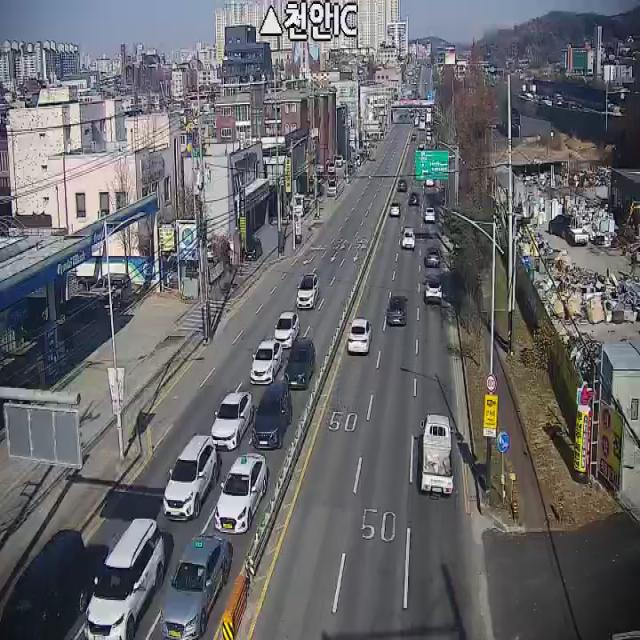Car: (84, 518, 165, 640), (0, 529, 86, 640), (161, 537, 230, 640), (164, 435, 217, 519), (215, 453, 266, 534), (252, 383, 293, 450), (212, 392, 254, 451), (344, 309, 378, 360), (283, 339, 316, 390), (89, 271, 133, 305), (250, 340, 283, 384), (274, 311, 300, 349), (296, 274, 319, 309), (387, 295, 406, 325), (425, 280, 442, 303), (246, 237, 262, 260), (402, 228, 415, 248), (425, 249, 439, 267), (328, 178, 338, 196), (424, 208, 436, 222), (390, 202, 400, 215), (410, 192, 418, 205), (398, 180, 407, 191)
Truck: (421, 412, 454, 493), (566, 216, 588, 245)
